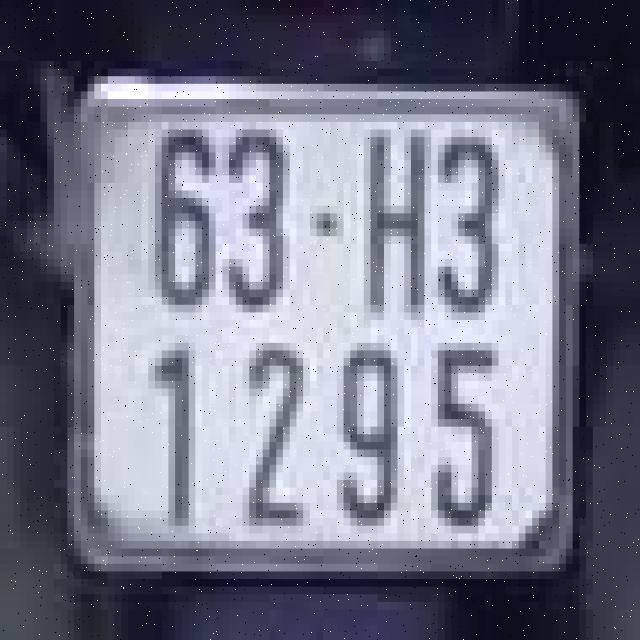1: (152, 328, 212, 541)
2: (232, 336, 306, 534)
3: (222, 122, 296, 320), (438, 126, 505, 331)
5: (424, 339, 498, 530)
6: (148, 114, 222, 320)
9: (330, 335, 404, 526)
H: (354, 130, 434, 328)
